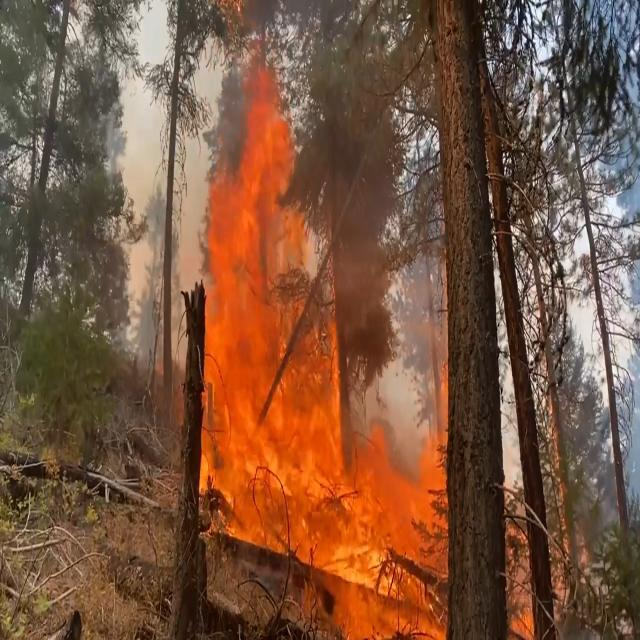Fire: (204, 52, 458, 634)
